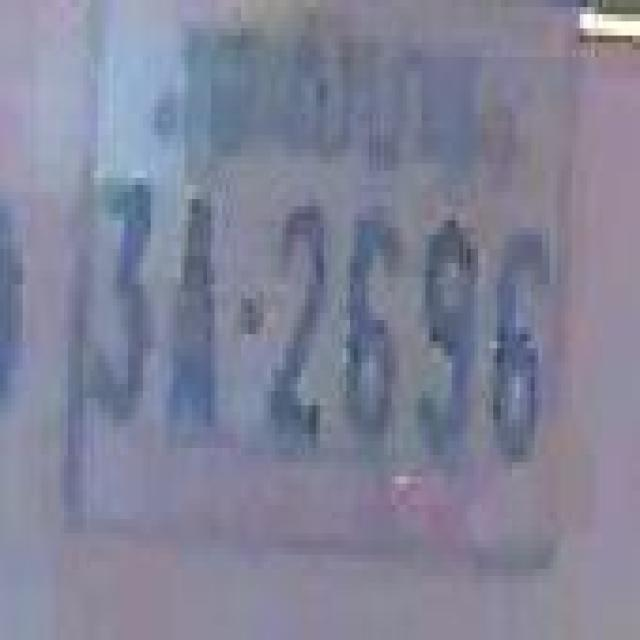Preah_Sihanouk: (177, 14, 485, 202)
